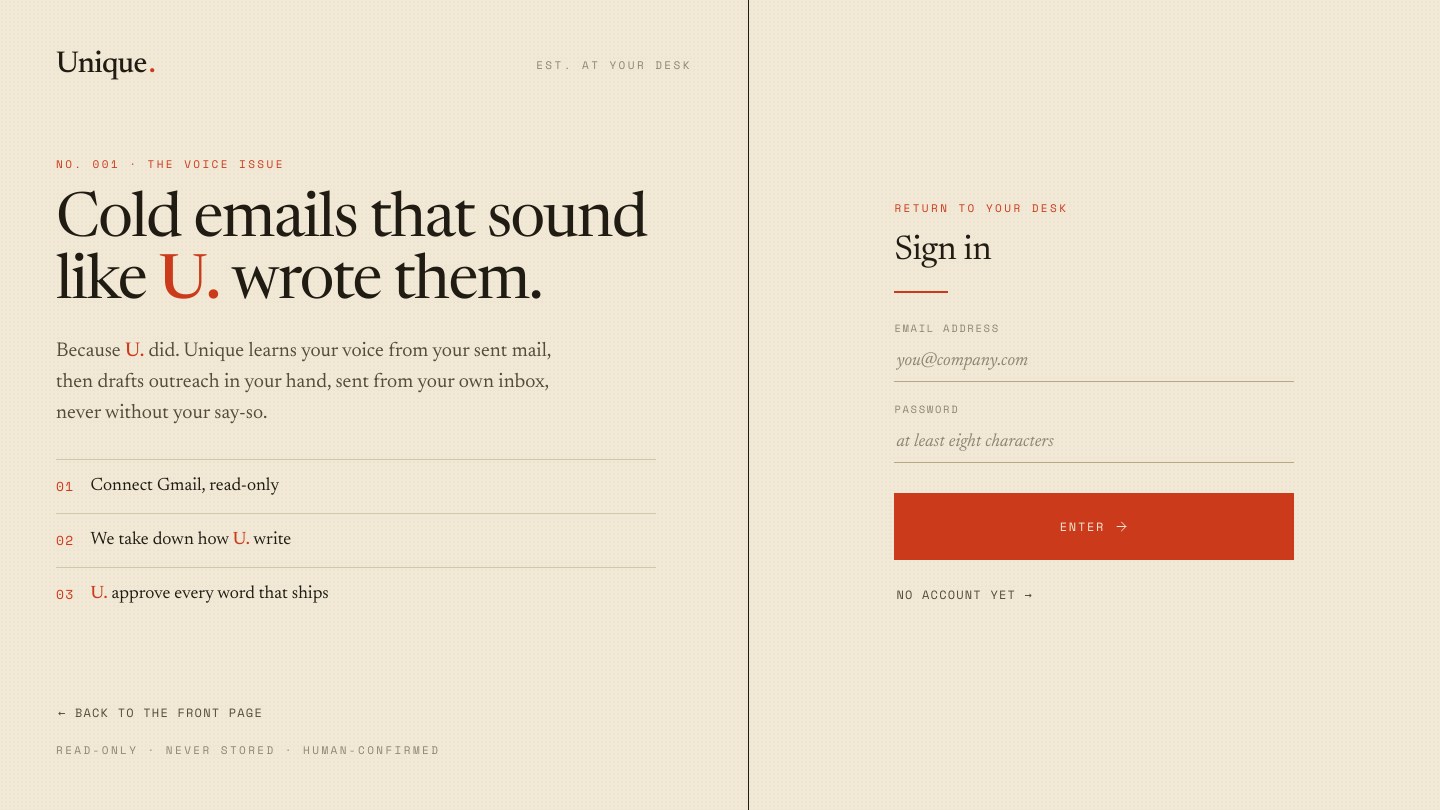
Test: AuthPage › toggles between sign in and sign up
This screenshot has width=1440, height=810.
Click the button "No account yet →" at (965, 595), box [894, 580, 1035, 610]
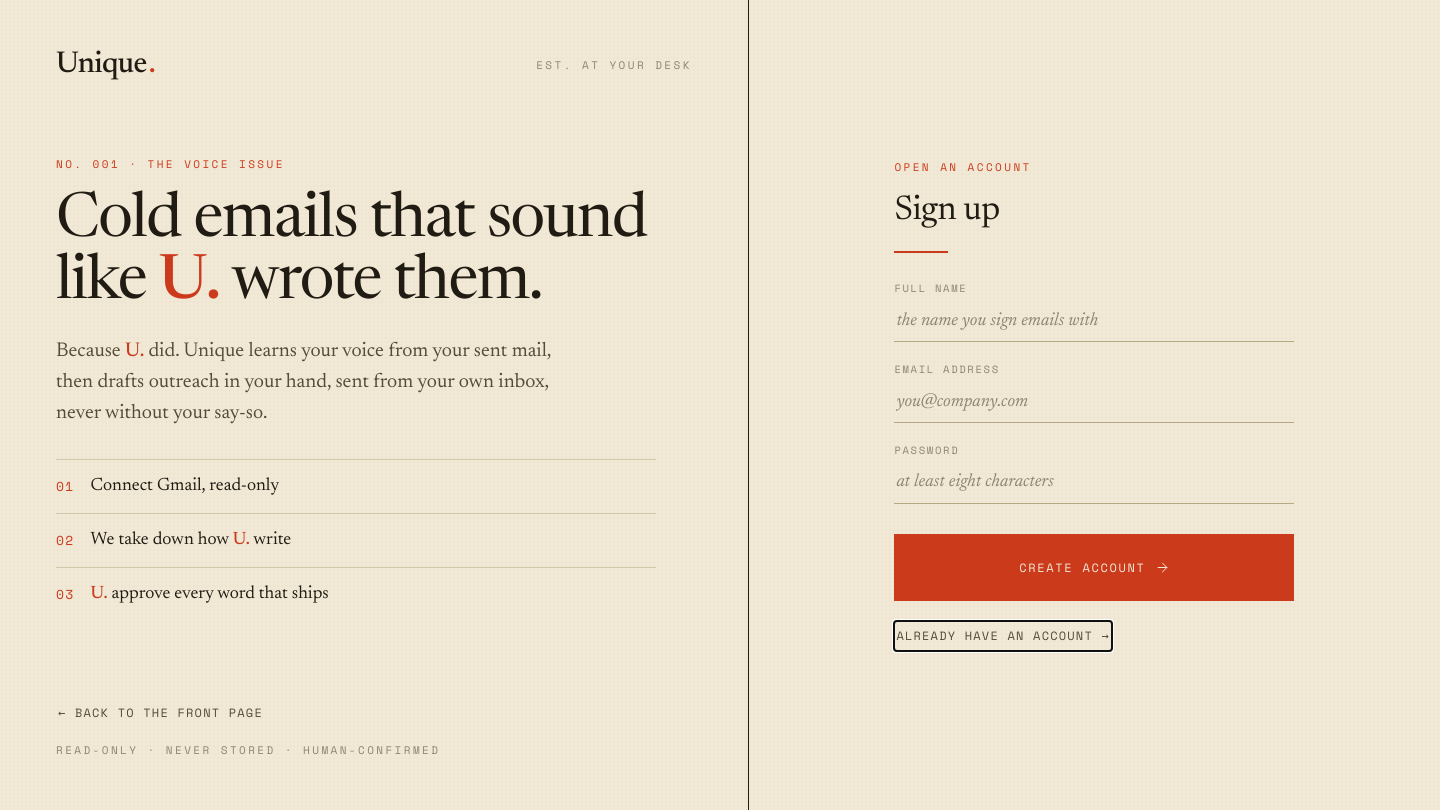
Check: the heading "Sign up" is shown, box [894, 194, 1000, 228]
Check: the text "Open an account" is shown, box [894, 159, 1032, 175]
Check: the button "Create account" is shown, box [894, 534, 1294, 601]
Click the button "Already have an account →" at (1003, 636), box [894, 621, 1112, 651]
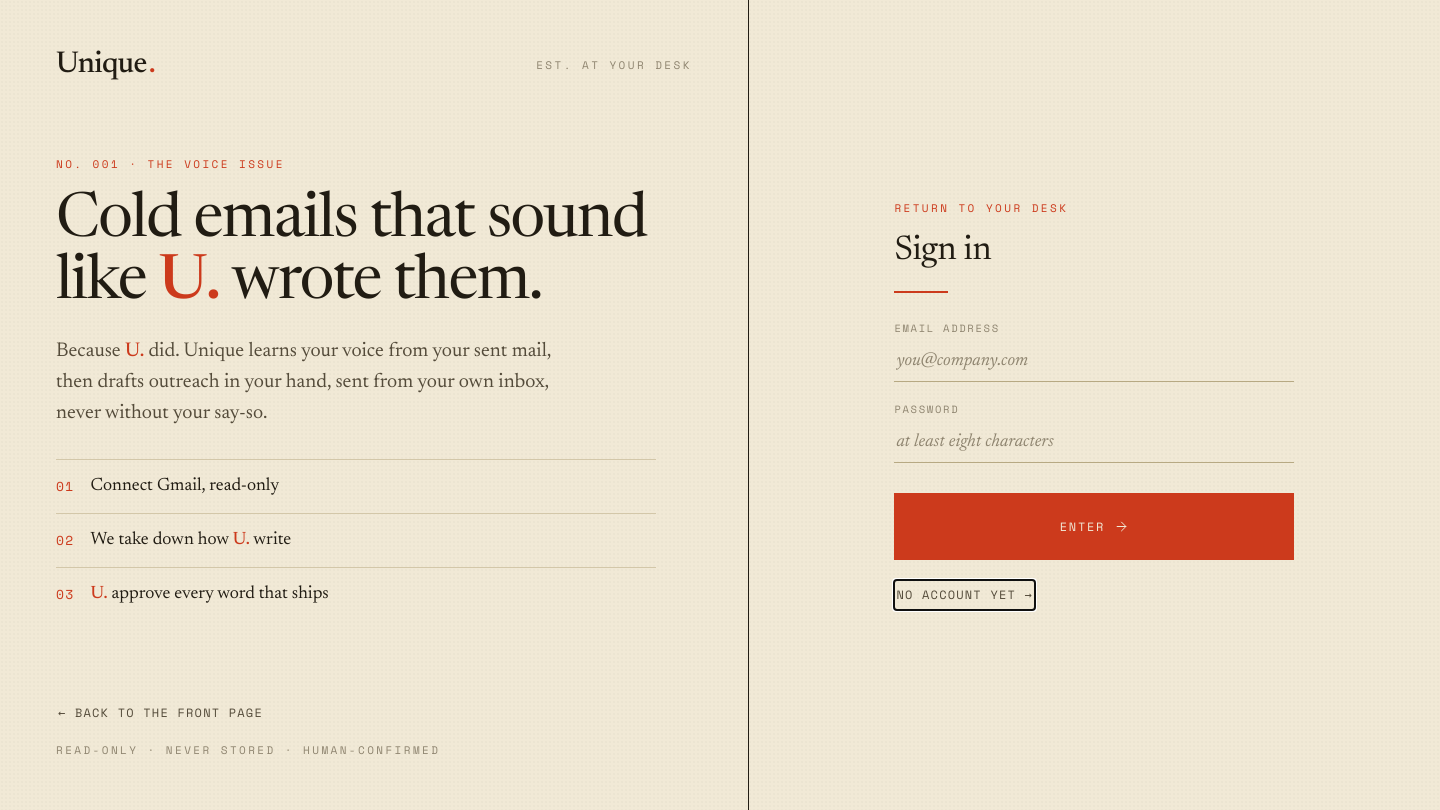
Check: the heading "Sign in" is shown, box [894, 234, 991, 268]
Check: the button "Enter" is shown, box [894, 493, 1294, 560]
